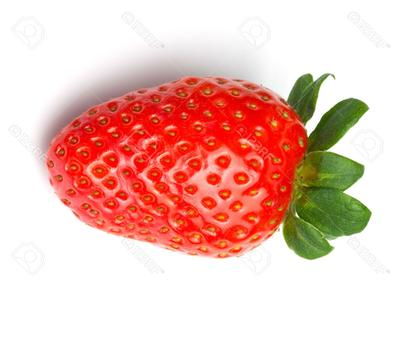strawberry: (0, 0, 400, 339)
